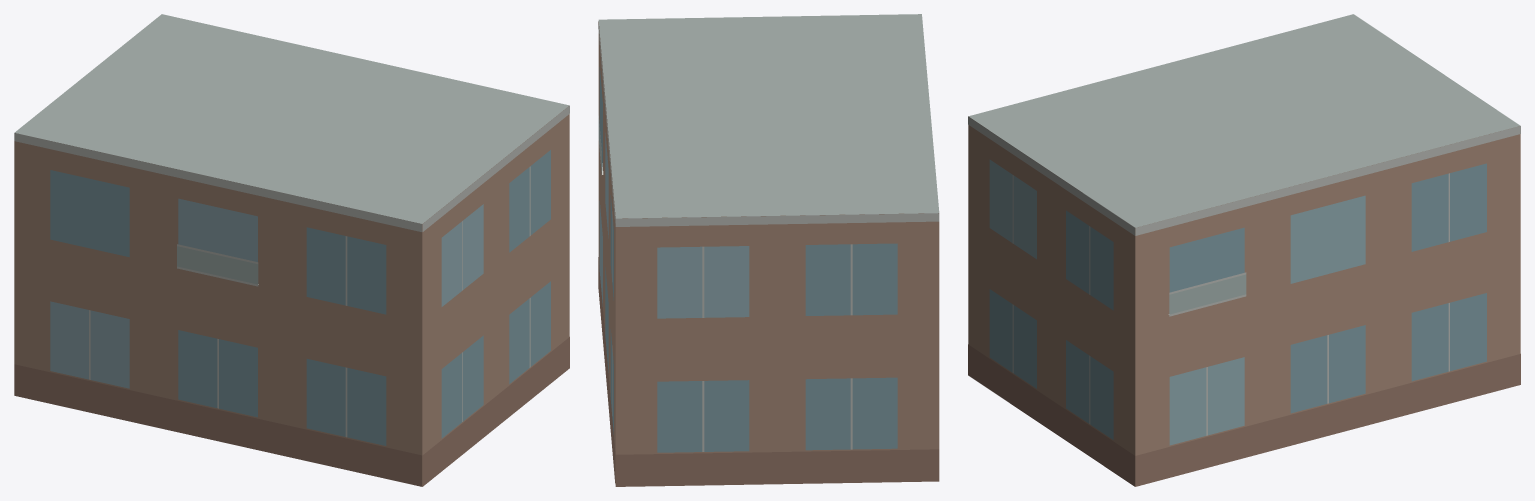
File: survey-upis-32625092.glb
3 renders of one model, left to right at view 1: azimuth 30°, elevation 25°; view 2: azimuth 150°, elevation 25°; view 3: azimuth 270°, elevation 25°, orthographic. The views are drawn at different scales.
Parts seen in each view (by area): view 1: survey-upis-32625092.tmp; view 2: survey-upis-32625092.tmp; view 3: survey-upis-32625092.tmp.
Part boxes in pixels (left/top/right/bottom): survey-upis-32625092.tmp: left=14, top=14, right=569, bottom=486; survey-upis-32625092.tmp: left=598, top=14, right=939, bottom=486; survey-upis-32625092.tmp: left=968, top=14, right=1520, bottom=486.
Size of the model in its own units: 13.64 by 7.7 by 14.89.
